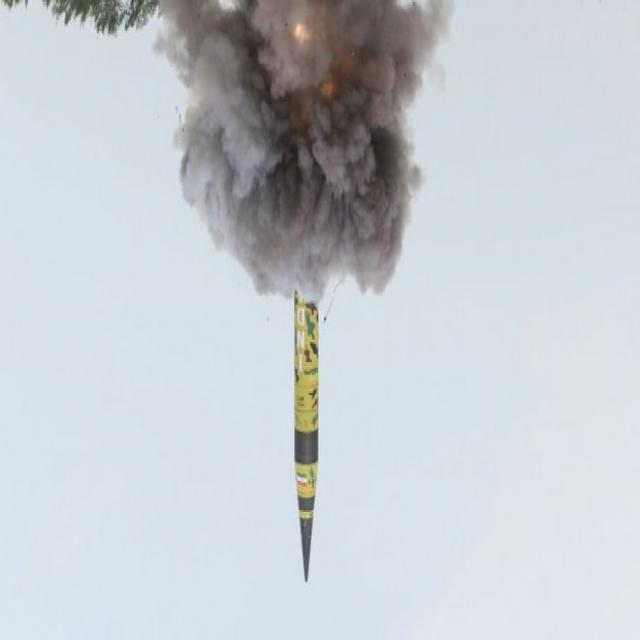missile: (277, 284, 339, 584)
